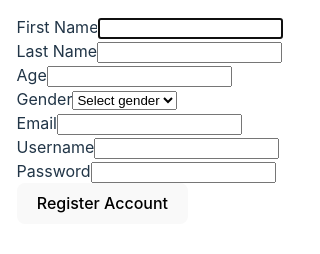
Test case: RegistrationForm › shows server error message on failed registration
The width and height of the screenshot is (320, 254).
Step 1. Type "John" into the field labelled "First Name" → [191, 28], box [98,18,284,39]
Step 2. Type "Doe" into the field labelled "Last Name" → [190, 52], box [97,42,282,63]
Step 3. Type "30" into the number field labelled "Age" → [139, 76], box [47,66,232,87]
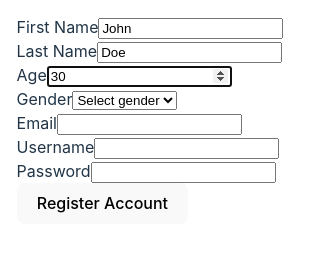
Step 4. Select "Male" in the dropdown labelled "Gender" → [125, 100], box [72,91,177,110]
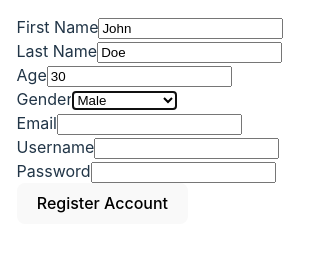
Step 5. Type "johndoe@example.com" into the field labelled "Email" → [149, 124], box [57,114,242,135]
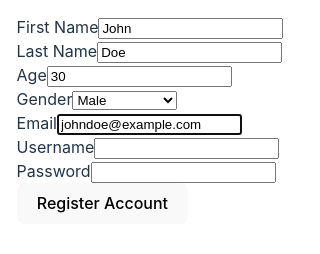
Step 6. Type "johndoe" into the field labelled "Username" → [187, 148], box [94,138,279,159]
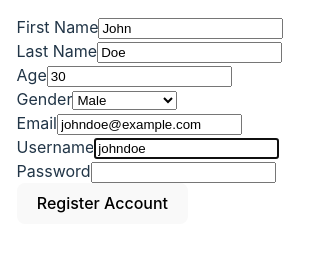
Step 7. Type "Password123!" into the password field labelled "Password" → [183, 172], box [91,162,276,183]
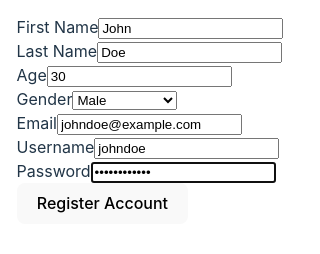
Step 8. Click the button "Register Account" → [102, 203], box [16,183,188,224]
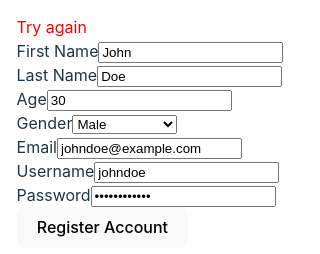
Result: the text "Try again" is shown at [16,17,87,37]
